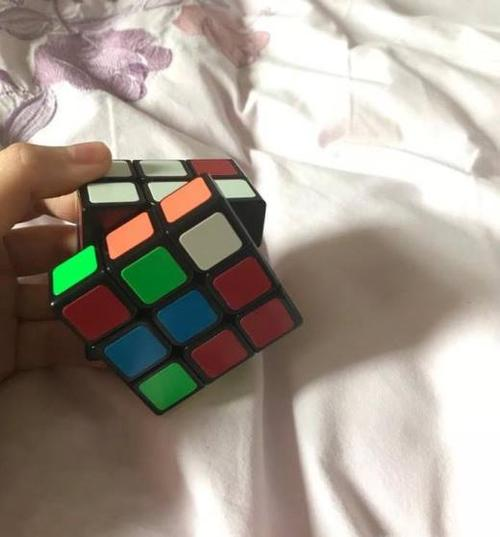cube: (39, 143, 311, 416)
